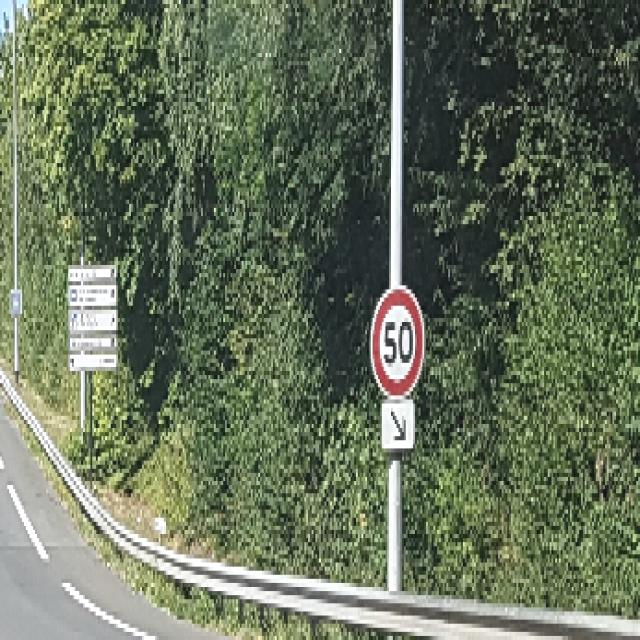speed_50: (370, 283, 426, 401)
